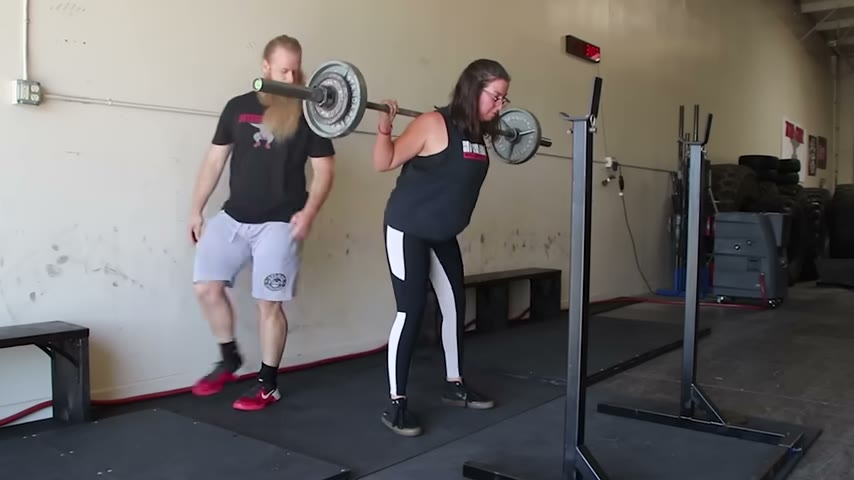barbell_plate_side: (482, 82, 553, 174), (301, 47, 352, 146)
